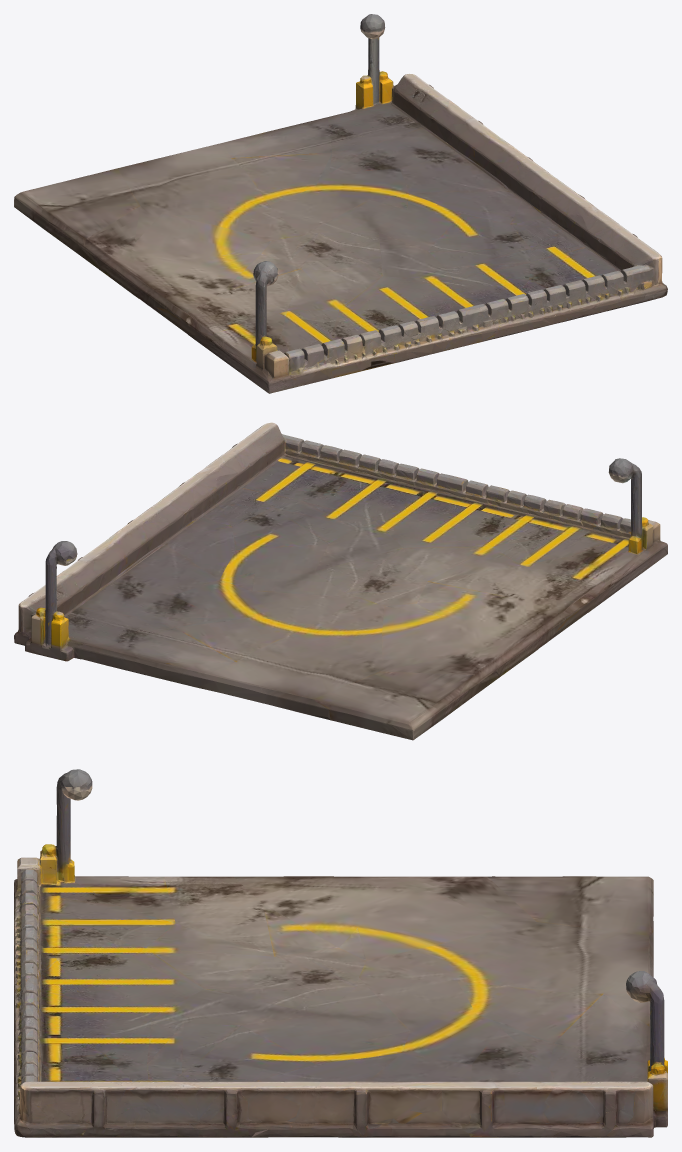
File: truck_depot_top_entrance.glb
The picture shows the model from 3 angles, top to bottom: view 1: azimuth 30°, elevation 25°; view 2: azimuth 150°, elevation 25°; view 3: azimuth 270°, elevation 25°; orthographic projection. The views are drawn at different scales.
Visible parts, largest first — view 1: normalize; view 2: normalize; view 3: normalize.
Part boxes in pixels (left/top/right/bottom): normalize: left=14, top=14, right=667, bottom=393; normalize: left=14, top=422, right=667, bottom=740; normalize: left=14, top=769, right=667, bottom=1137.
Bounding box in the file's own units: 0.8879 × 0.2312 × 1.
1 material, 1 textured.
